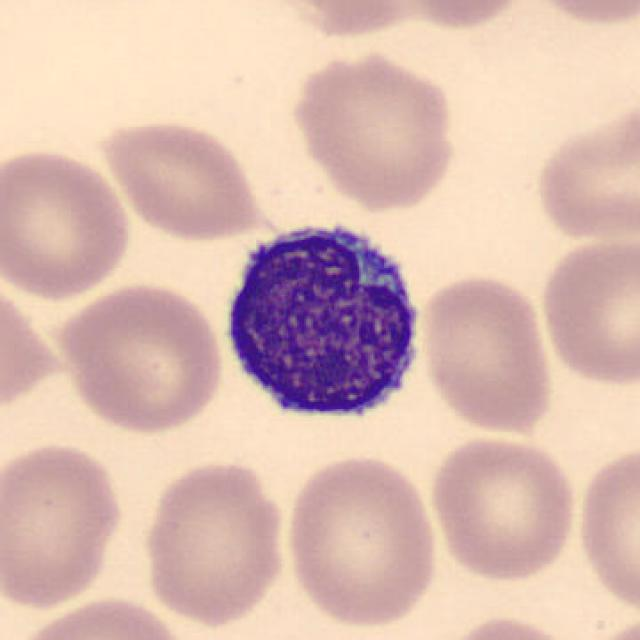Lymphocyte: (212, 206, 434, 439)
RBC: (281, 450, 443, 631), (284, 48, 462, 212), (54, 278, 228, 436), (137, 455, 291, 629), (414, 268, 558, 437), (425, 432, 581, 584), (0, 437, 128, 614), (94, 115, 265, 243), (0, 143, 135, 303), (528, 95, 638, 247), (535, 229, 638, 390), (572, 437, 640, 619), (7, 592, 196, 640), (260, 0, 439, 41), (0, 292, 62, 401), (396, 0, 533, 33), (432, 612, 583, 640), (517, 0, 640, 30), (579, 613, 638, 640)
